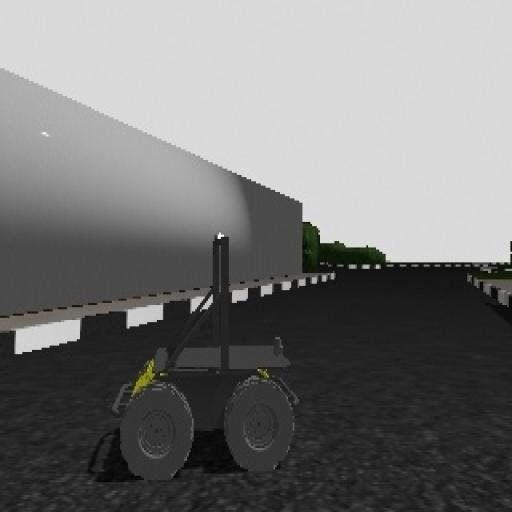huskya200: (101, 204, 313, 504)
